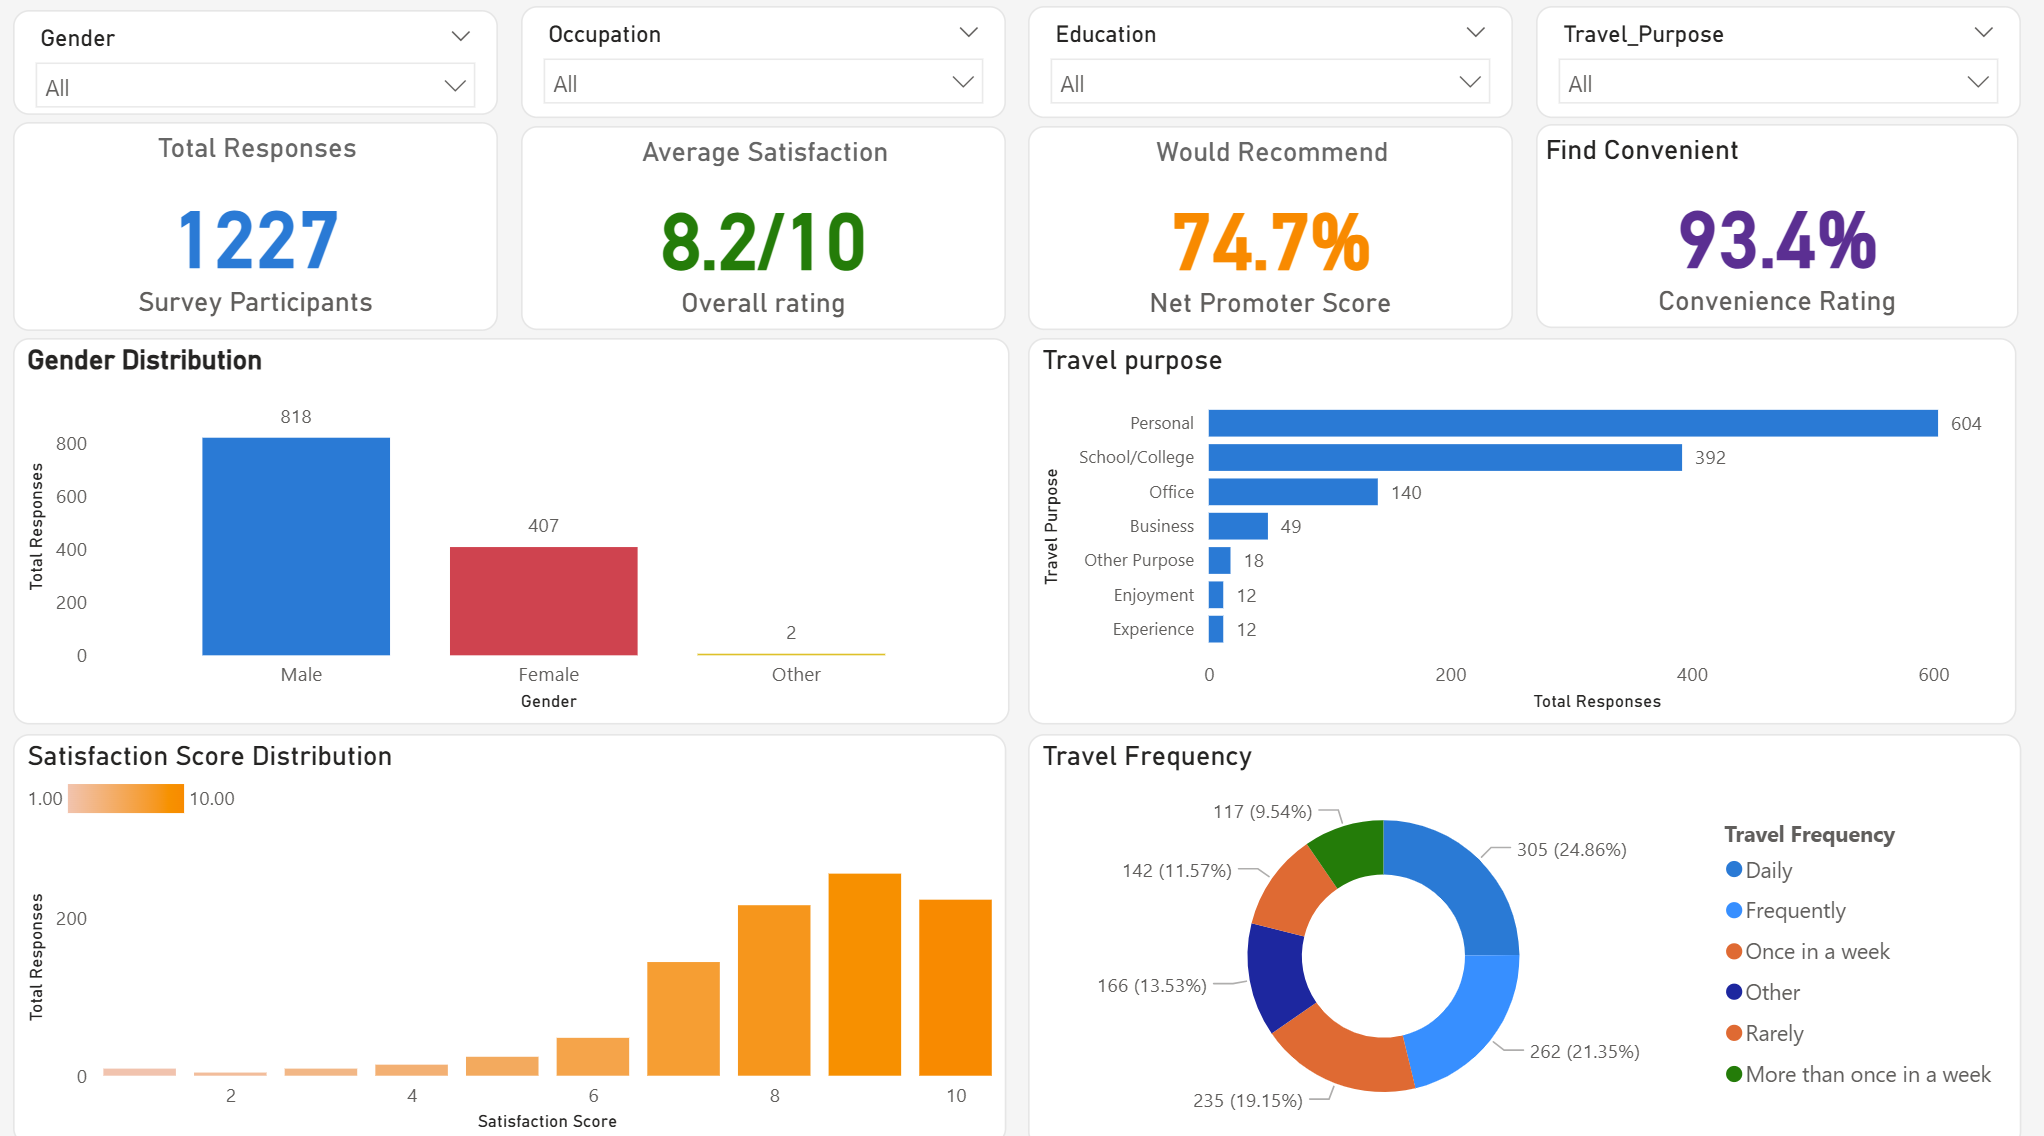

The page's visual inventory and layout, read from the dashboard file:
{"tool":"powerbi","page":{"name":"Summary","canvas":[1280,720],"ordinal":0},"visuals":[{"type":"card","title":"Total Responses","fields":{"Values":["_Measures(1).Total Responses"]},"box":[22.2,85.4,300.6,129.7],"z":0},{"type":"card","title":"Average Satisfaction","fields":{"Values":["_Measures(1).Average Satisfaction"]},"box":[337,88.6,300.6,126.6],"z":1000},{"type":"card","title":"Would Recommend","fields":{"Values":["_Measures(1).Would Recommend"]},"box":[650.3,88.6,300.6,126.6],"z":2000},{"type":"card","title":"Find Convenient","fields":{"Values":["_Measures(1).Find Convenient"]},"box":[965.1,87,299,126.6],"z":3000},{"type":"columnChart","title":"Gender Distribution","fields":{"Category":["Dim_Demographics.Gender"],"Y":["_Measures(1).Total Responses"]},"box":[22.7,219.9,617.3,239.6],"z":4000},{"type":"barChart","title":"Travel purpose","fields":{"Category":["Dim_Travel.Travel Purpose"],"Y":["_Measures(1).Total Responses"]},"box":[650.6,219.9,612.7,239.6],"z":5000},{"type":"clusteredColumnChart","title":"Satisfaction Score Distribution","fields":{"Y":["_Measures(1).Total Responses"],"Category":["Dim_Satisfaction.Satisfaction_Score"]},"box":[22.2,465.2,615.5,254.7],"z":6000},{"type":"donutChart","title":"Travel Frequency","fields":{"Y":["_Measures(1).Total Responses"],"Category":["Dim_Travel.Travel Frequency"]},"box":[650.3,465.2,615.5,256.3],"z":7000},{"type":"slicer","fields":{"Values":["Dim_Demographics.Gender"]},"box":[22.2,16,300.6,64.9],"z":8000},{"type":"slicer","fields":{"Values":["Dim_Demographics.Occupation"]},"box":[336.5,13.6,300.6,69.6],"z":9000},{"type":"slicer","fields":{"Values":["Dim_Demographics.Education"]},"box":[650.8,13.6,300.6,69.6],"z":10000},{"type":"slicer","fields":{"Values":["Dim_Travel.Travel_Purpose"]},"box":[965.1,13.6,300.6,69.6],"z":11000}]}

Visuals, with their boxes in screenshot pixels (x1, y1, x2, y2), scaled from the page's 1280x720 canvas onto the 2044x1136 screenshot:
"Total Responses" card: select_region(35, 135, 515, 339)
"Average Satisfaction" card: select_region(538, 140, 1018, 340)
"Would Recommend" card: select_region(1038, 140, 1518, 340)
"Find Convenient" card: select_region(1541, 137, 2019, 337)
"Gender Distribution" columnChart: select_region(36, 347, 1022, 725)
"Travel purpose" barChart: select_region(1039, 347, 2017, 725)
"Satisfaction Score Distribution" clusteredColumnChart: select_region(35, 734, 1018, 1135)
"Travel Frequency" donutChart: select_region(1038, 734, 2021, 1135)
slicer - Dim_Demographics.Gender: select_region(35, 25, 515, 128)
slicer - Dim_Demographics.Occupation: select_region(537, 21, 1017, 131)
slicer - Dim_Demographics.Education: select_region(1039, 21, 1519, 131)
slicer - Dim_Travel.Travel_Purpose: select_region(1541, 21, 2021, 131)
